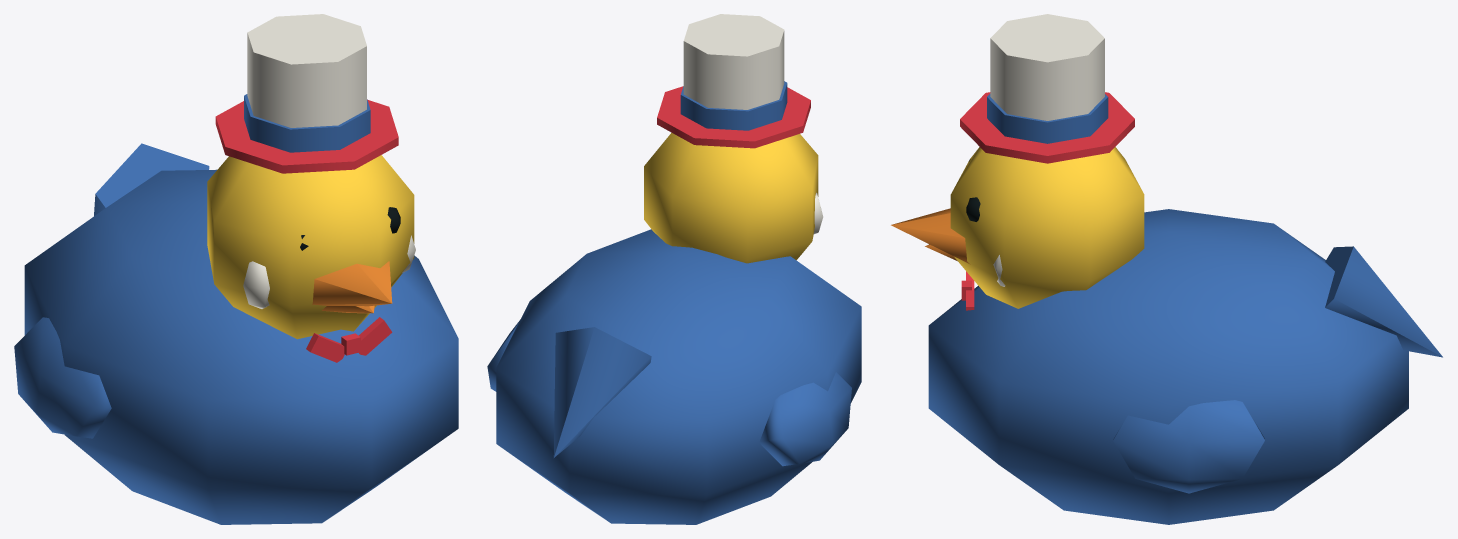
File: duck-unclesam.glb
The picture shows the model from 3 angles, left to right: view 1: azimuth 30°, elevation 25°; view 2: azimuth 150°, elevation 25°; view 3: azimuth 270°, elevation 25°; orthographic projection. The views are drawn at different scales.
Parts seen in each view (by area): view 1: CouncilDuck_unclesam; view 2: CouncilDuck_unclesam; view 3: CouncilDuck_unclesam.
Boxes of the visible parts, x1,y1,x2,y2 form: CouncilDuck_unclesam: (14,14,458,524); CouncilDuck_unclesam: (487,14,861,524); CouncilDuck_unclesam: (891,14,1442,524).
Bounding box in the file's own units: 2.46 × 3.04 × 3.29.
